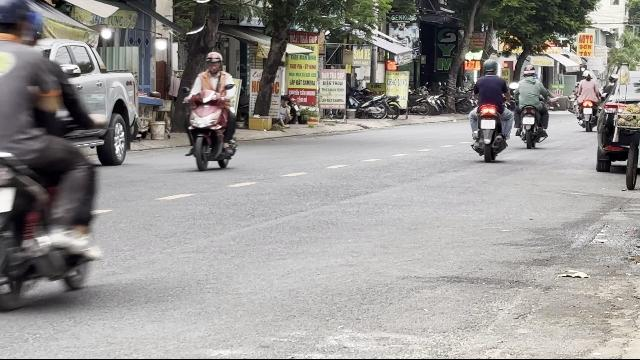helmet: (204, 50, 222, 72), (521, 64, 535, 78)
motorcyclist: (180, 50, 240, 170)
